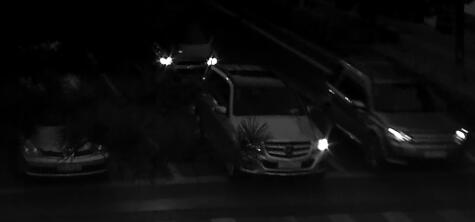car: (194, 62, 328, 180), (327, 61, 468, 168), (12, 60, 112, 181), (135, 11, 222, 84)
